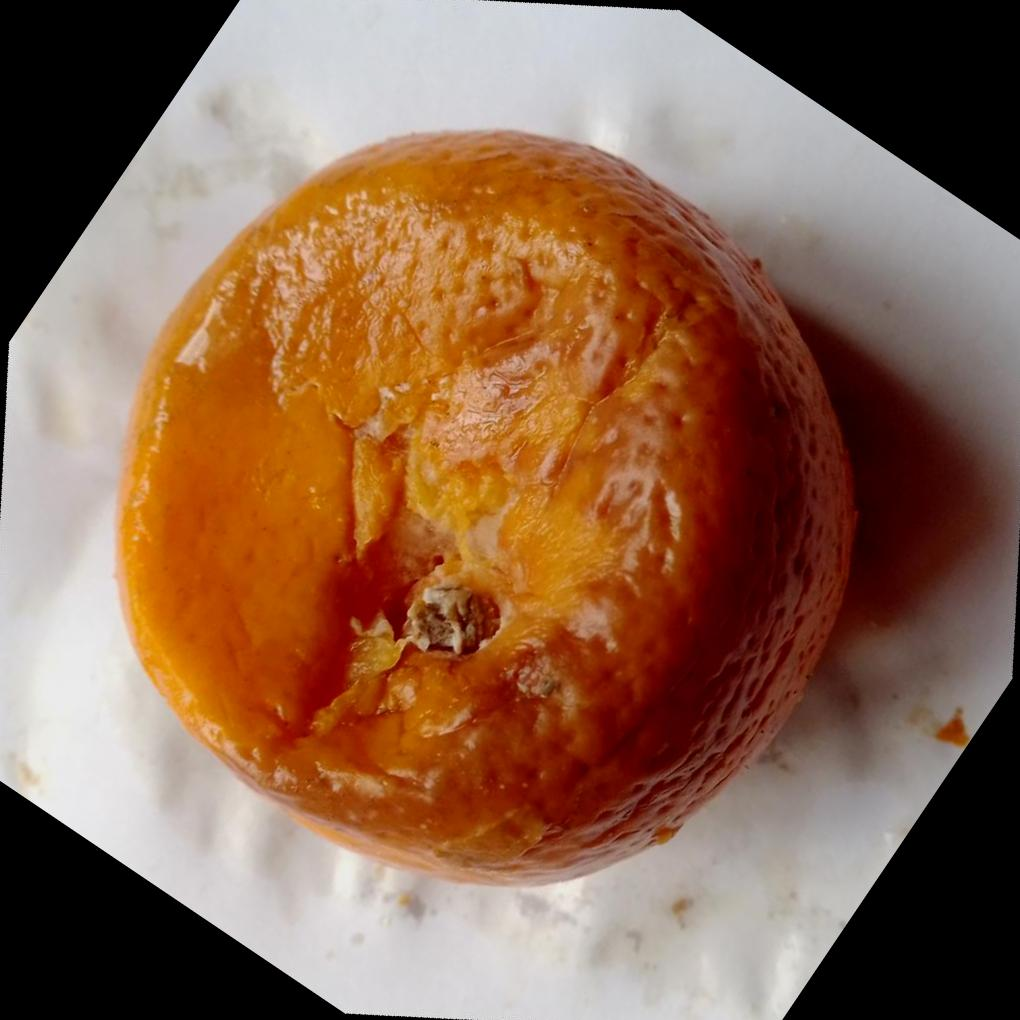FreshOrange: (114, 128, 863, 892)
